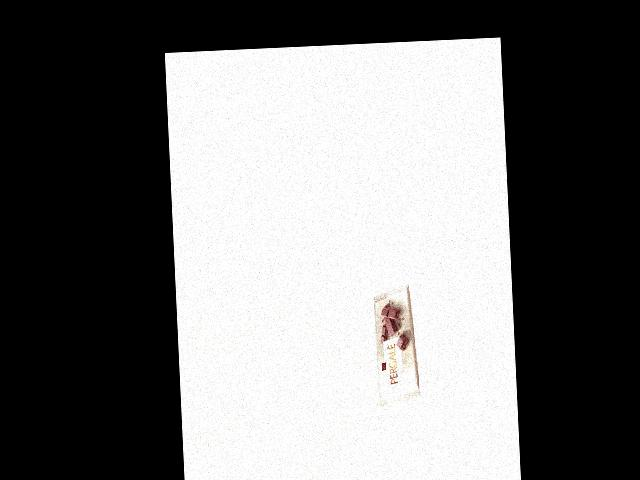chocolate: (373, 281, 419, 407)
